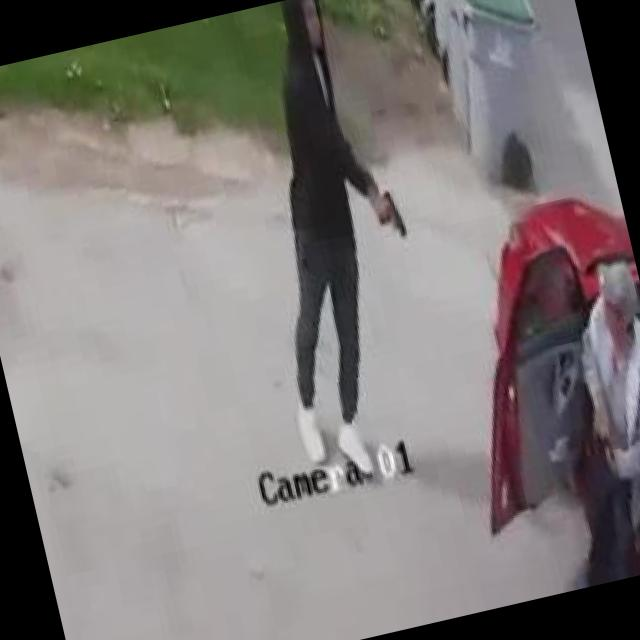Guns: (362, 182, 420, 247)
